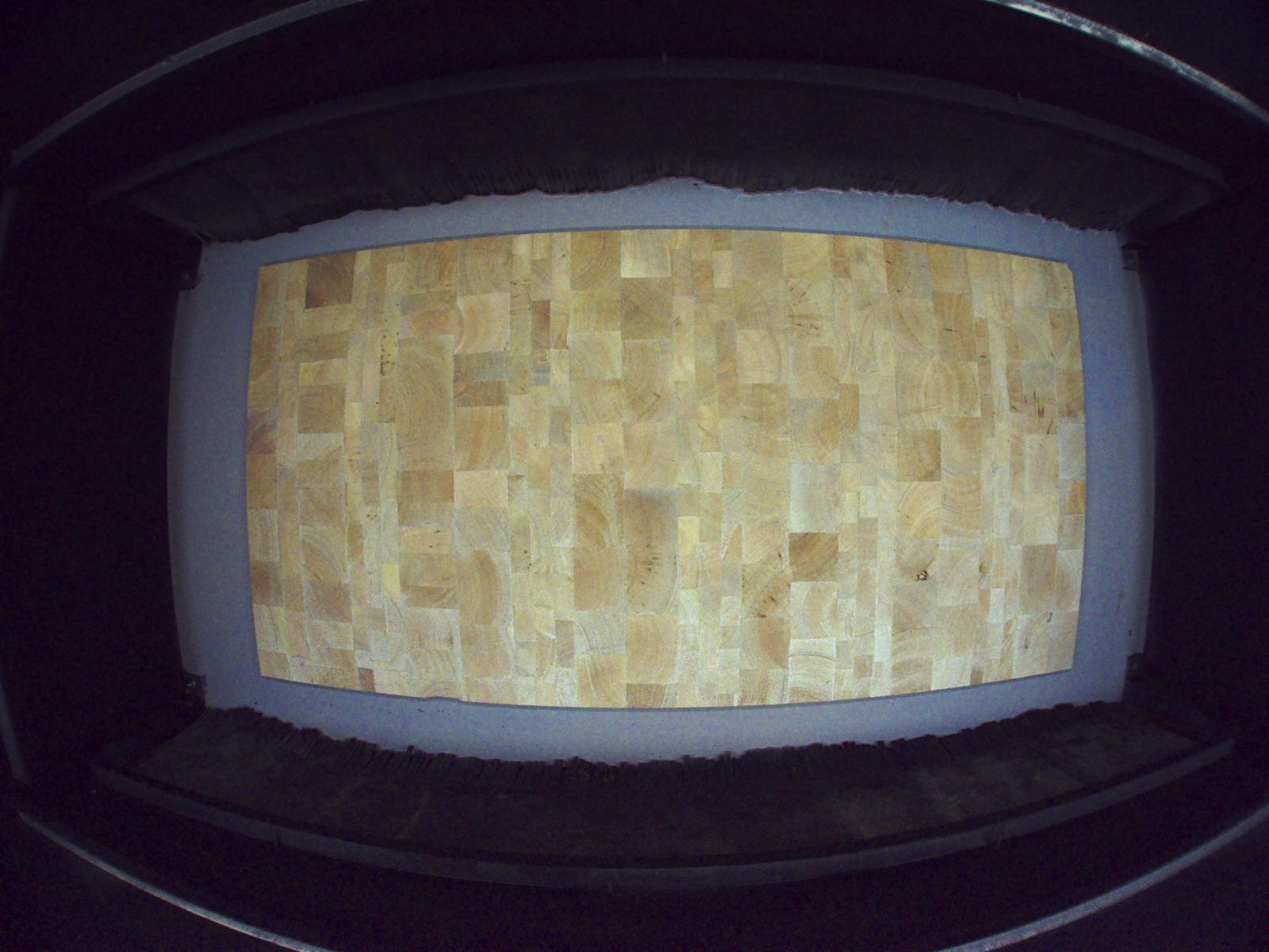nudillo: (915, 569, 928, 582)
